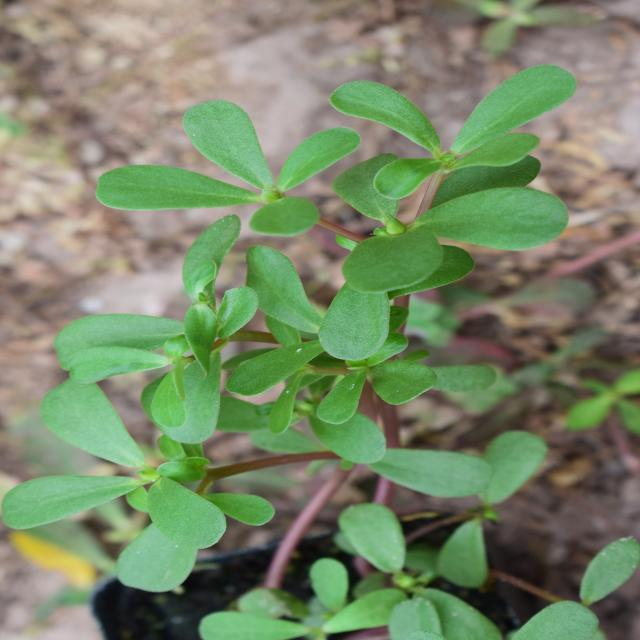purslane: (41, 0, 596, 567)
